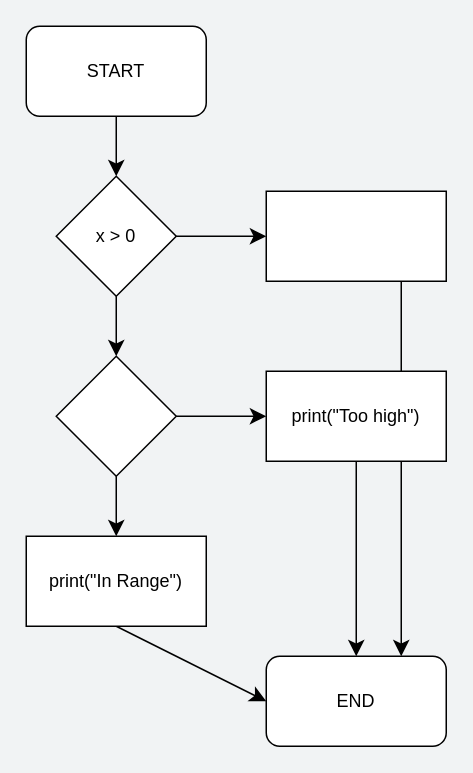
Some shapes in this 473 by 773 pixel diagram are drawn without their labels. Each missing label, with the centre of its shape:
print("Negative"): (x=355, y=235)
x < 10: (x=115, y=415)
